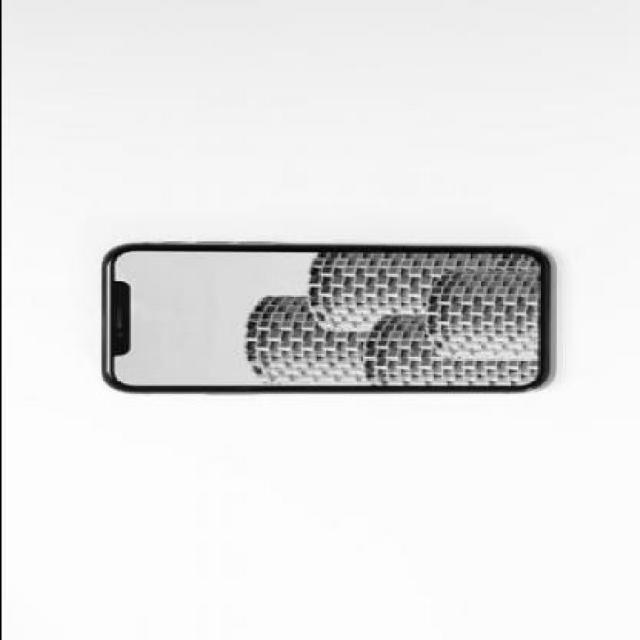fake: (98, 239, 552, 396)
